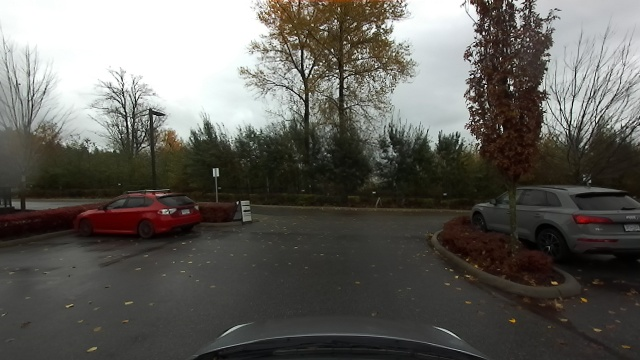car: (536, 183, 636, 266), (75, 189, 201, 235)
